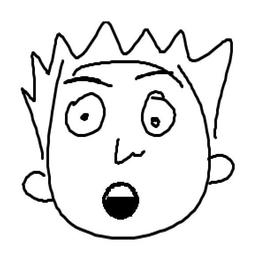ear: (201, 151, 242, 189), (17, 169, 59, 206)
eye: (136, 88, 182, 141), (61, 91, 107, 143)
eyebrow: (62, 77, 115, 88)
frowning_eyebrow: (133, 67, 173, 82)
nose: (106, 135, 148, 165)
open_mouth: (94, 172, 143, 224)
